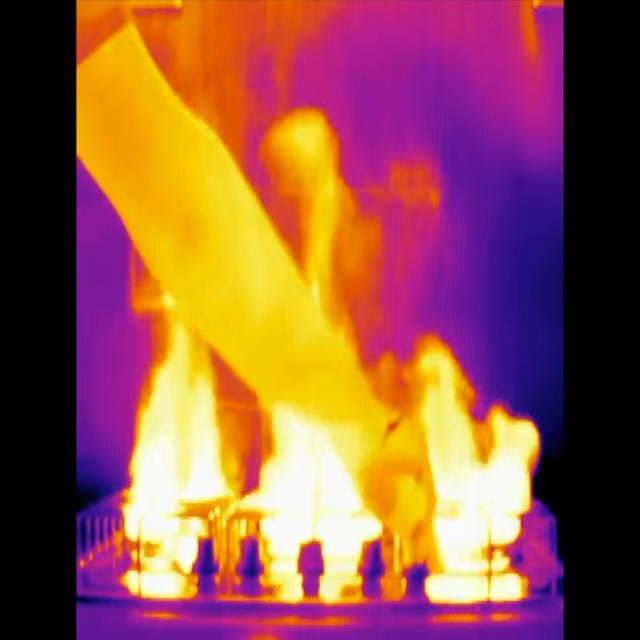fire: (108, 449, 235, 603), (254, 475, 384, 606), (415, 474, 539, 606)
